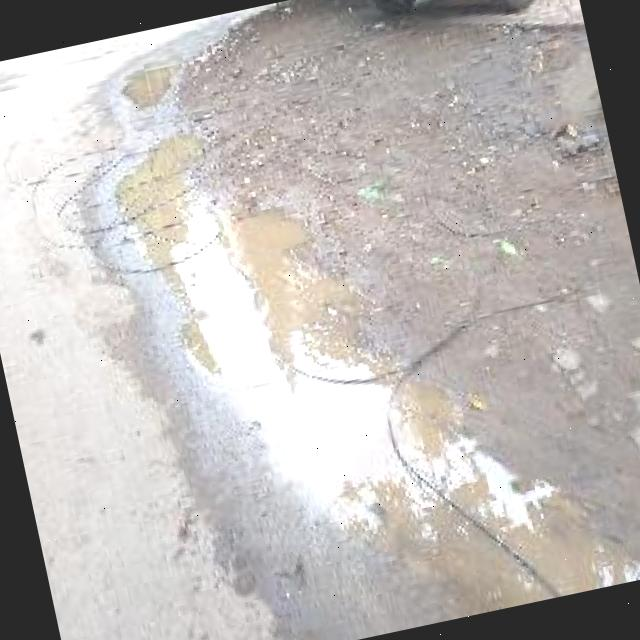stagnation: (101, 95, 397, 612)
